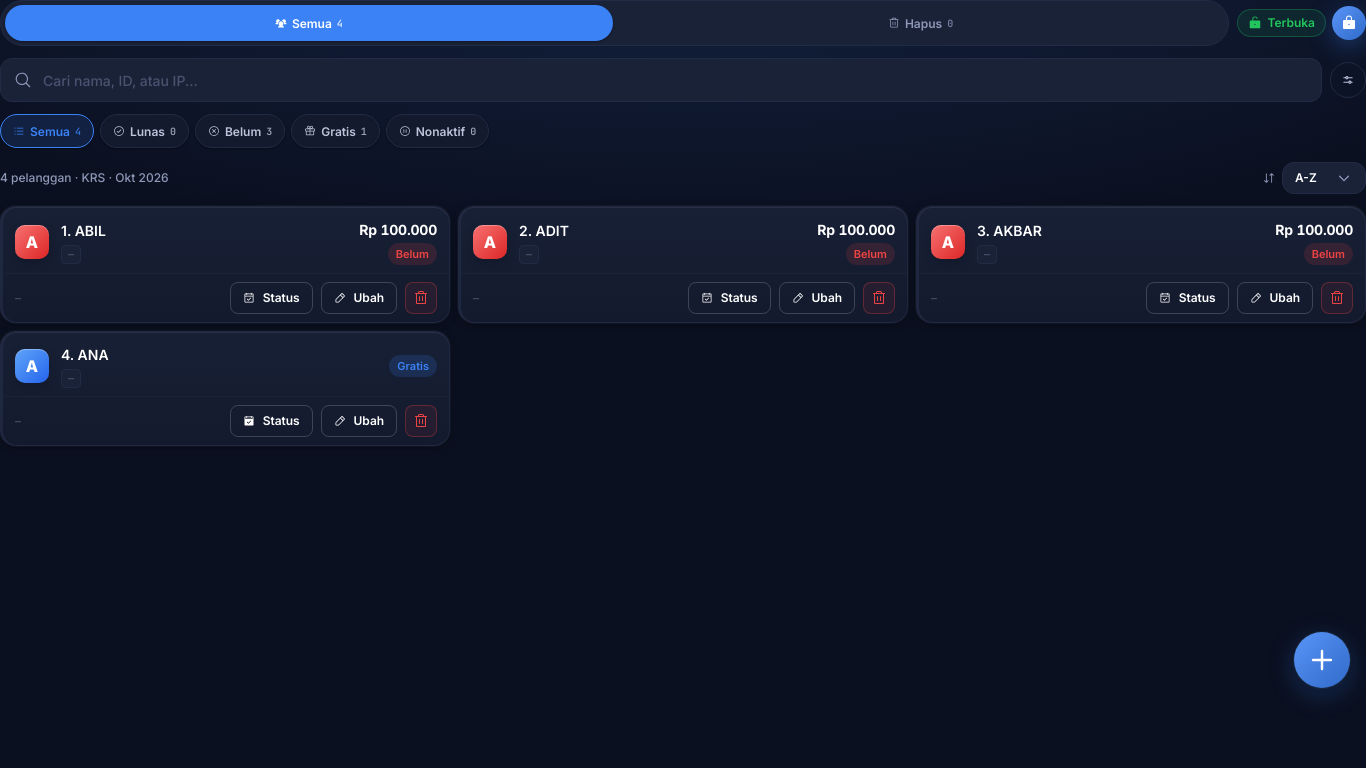
Test: Sheet "Status & Periode" — Nonaktif / Reaktivasi berulang (S3) › "Terdaftar sejak" hanya info di sheet; tombol Ubah membuka form Edit Member (satu-satunya editor)
Click the button with aria-label "Status & Periode: ABIL".
click(271, 298)  # box x1=230 y1=282 x2=313 y2=314
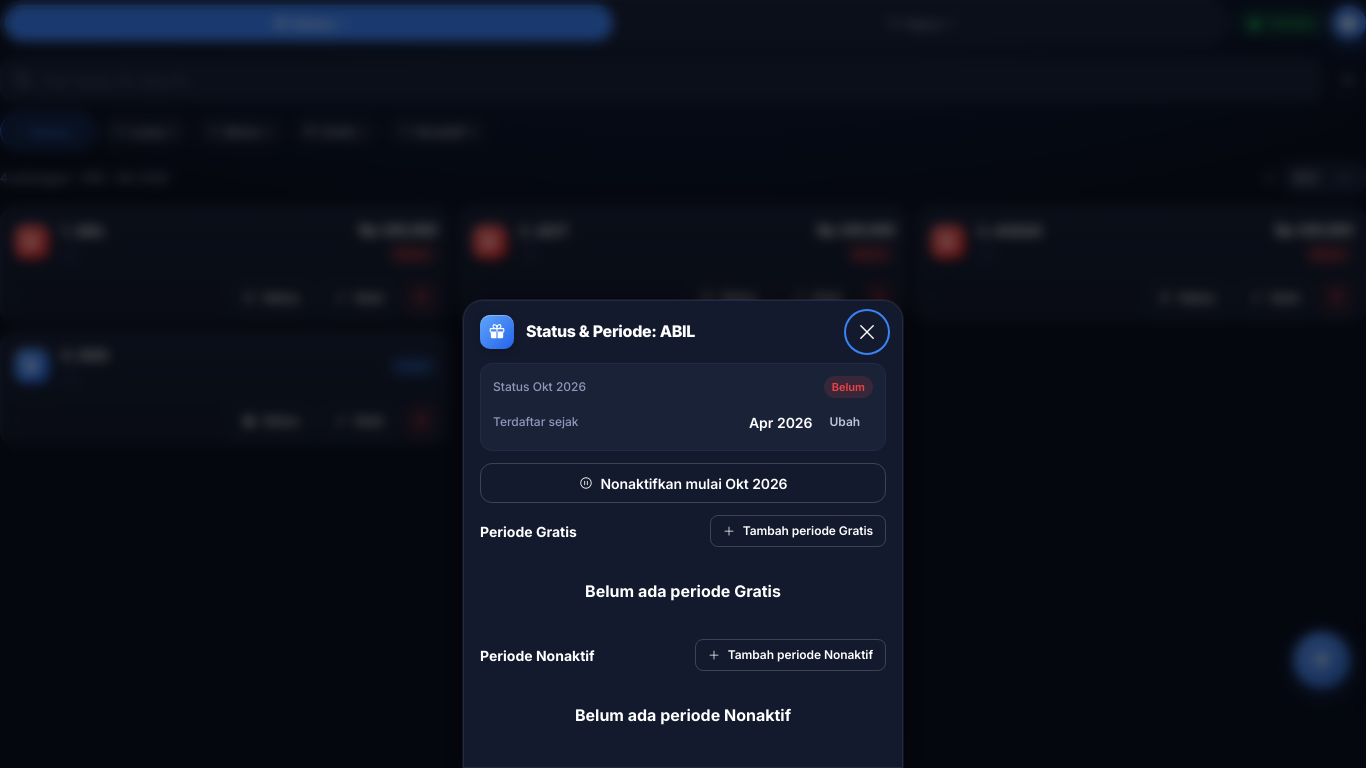
Expected: the text "Terdaftar sejak" is shown, x1=493 y1=413 x2=579 y2=431
Expected: the text "Apr 2026" is shown, x1=749 y1=414 x2=813 y2=430
Click the button "Ubah".
click(845, 422)  # box x1=817 y1=406 x2=873 y2=438
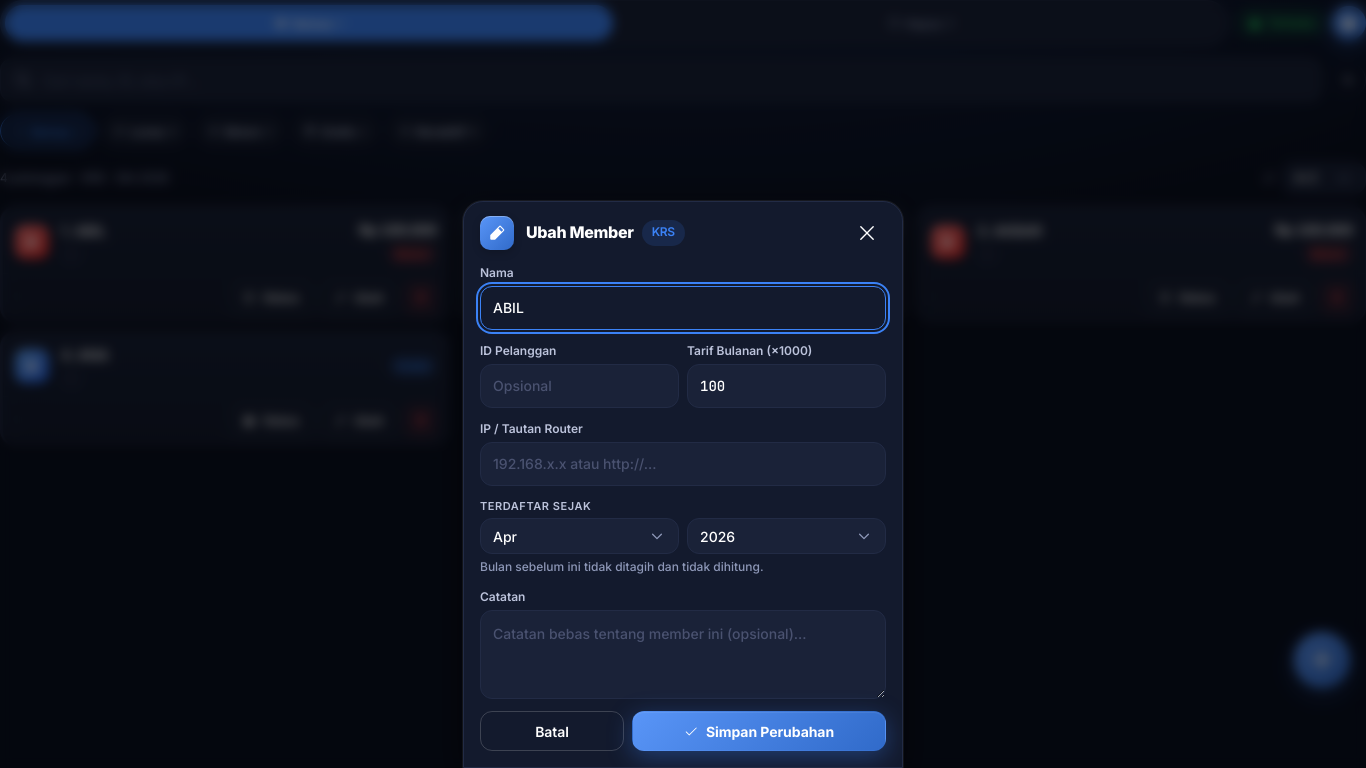
Expected: the dropdown named "Terdaftar sejak — Bulan" shows "Apr", x1=480 y1=518 x2=679 y2=554
